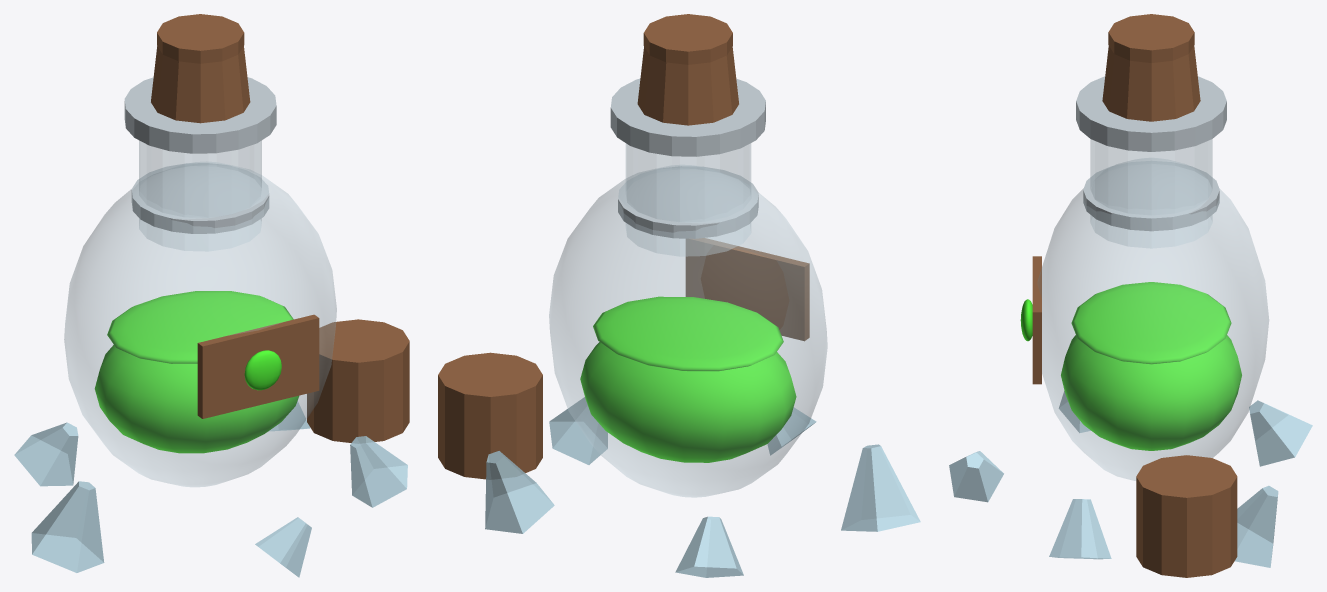
Rendered from PoisionVial.glb.
The picture shows the model from 3 angles, left to right: view 1: azimuth 30°, elevation 25°; view 2: azimuth 150°, elevation 25°; view 3: azimuth 270°, elevation 25°; orthographic projection. The views are drawn at different scales.
Parts seen in each view (by area): view 1: Vial_Glass_Body, Vial_Poison_Liquid, Broken_State_Stopper, Vial_Glass_Neck, Vial_Liquid_Surface, Vial_Warning_Label, Vial_Neck_Band, Vial_Glass_Rim, Vial_Cork_Stopper, Broken_Vial_Shard_01, Vial_Stopper_Top, Broken_Vial_Shard_02 (+4 smaller); view 2: Vial_Glass_Body, Vial_Poison_Liquid, Broken_State_Stopper, Vial_Liquid_Surface, Vial_Glass_Neck, Vial_Neck_Band, Vial_Warning_Label, Vial_Glass_Rim, Vial_Cork_Stopper, Broken_Vial_Shard_01, Broken_Vial_Shard_04, Vial_Stopper_Top (+3 smaller); view 3: Vial_Glass_Body, Vial_Poison_Liquid, Broken_State_Stopper, Vial_Liquid_Surface, Vial_Glass_Neck, Vial_Neck_Band, Vial_Glass_Rim, Vial_Cork_Stopper, Vial_Stopper_Top, Broken_Vial_Shard_04, Broken_Vial_Shard_03, Broken_Vial_Shard_02 (+2 smaller).
Part boxes in pixels (x1,y1,x2,y2): Vial_Glass_Body: (64, 161, 336, 486); Vial_Poison_Liquid: (94, 345, 299, 453); Broken_State_Stopper: (307, 319, 409, 442); Vial_Glass_Neck: (139, 140, 261, 251); Vial_Liquid_Surface: (107, 291, 293, 363); Vial_Warning_Label: (197, 314, 319, 418); Vial_Neck_Band: (131, 163, 269, 233); Vial_Glass_Rim: (124, 77, 276, 153); Vial_Cork_Stopper: (151, 46, 250, 123); Broken_Vial_Shard_01: (31, 481, 104, 572); Vial_Stopper_Top: (157, 14, 244, 63); Broken_Vial_Shard_02: (350, 436, 407, 507); Vial_Glass_Body: (549, 165, 827, 497); Vial_Poison_Liquid: (580, 342, 796, 462); Broken_State_Stopper: (438, 352, 542, 479); Vial_Liquid_Surface: (593, 296, 783, 371); Vial_Glass_Neck: (626, 143, 750, 256); Vial_Neck_Band: (618, 166, 758, 238); Vial_Warning_Label: (685, 238, 809, 341); Vial_Glass_Rim: (610, 78, 765, 156); Vial_Cork_Stopper: (637, 47, 738, 125); Broken_Vial_Shard_01: (841, 444, 920, 531); Broken_Vial_Shard_04: (485, 451, 554, 533); Vial_Stopper_Top: (643, 14, 732, 64); Vial_Glass_Body: (1037, 158, 1268, 480); Vial_Poison_Liquid: (1061, 335, 1241, 450); Broken_State_Stopper: (1136, 455, 1237, 577); Vial_Liquid_Surface: (1071, 282, 1231, 364); Vial_Glass_Neck: (1090, 139, 1212, 248); Vial_Neck_Band: (1083, 161, 1219, 231); Vial_Glass_Rim: (1076, 76, 1226, 151); Vial_Cork_Stopper: (1102, 46, 1200, 121); Vial_Stopper_Top: (1108, 14, 1194, 62); Broken_Vial_Shard_04: (1235, 485, 1278, 567); Broken_Vial_Shard_03: (1249, 400, 1312, 466); Broken_Vial_Shard_02: (1049, 499, 1111, 559).
Size of the model in its own units: 0.4046 by 0.4397 by 0.309.
